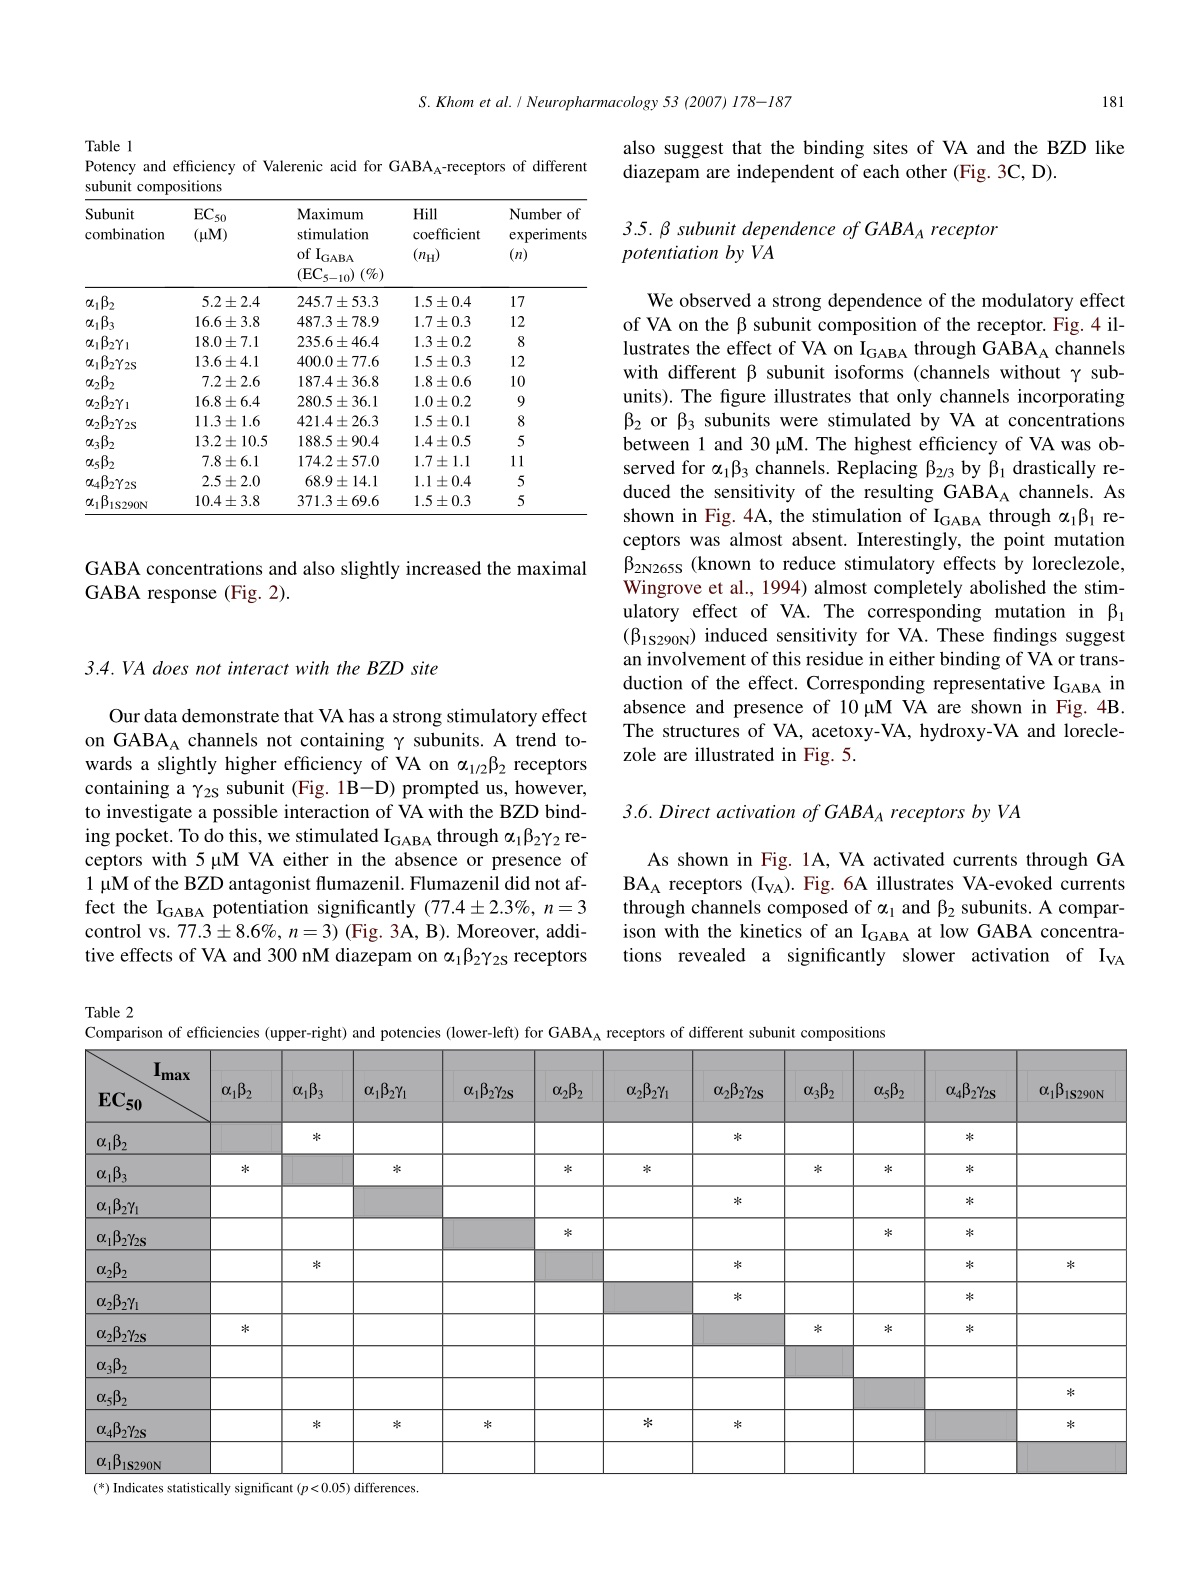full_lined: (81, 1047, 1128, 1475)
partial_lined: (83, 198, 587, 516)
